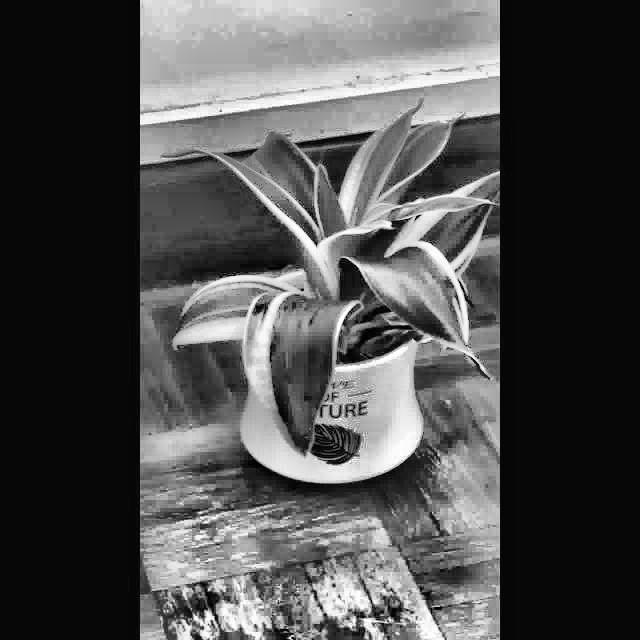plants: (160, 95, 500, 495)
